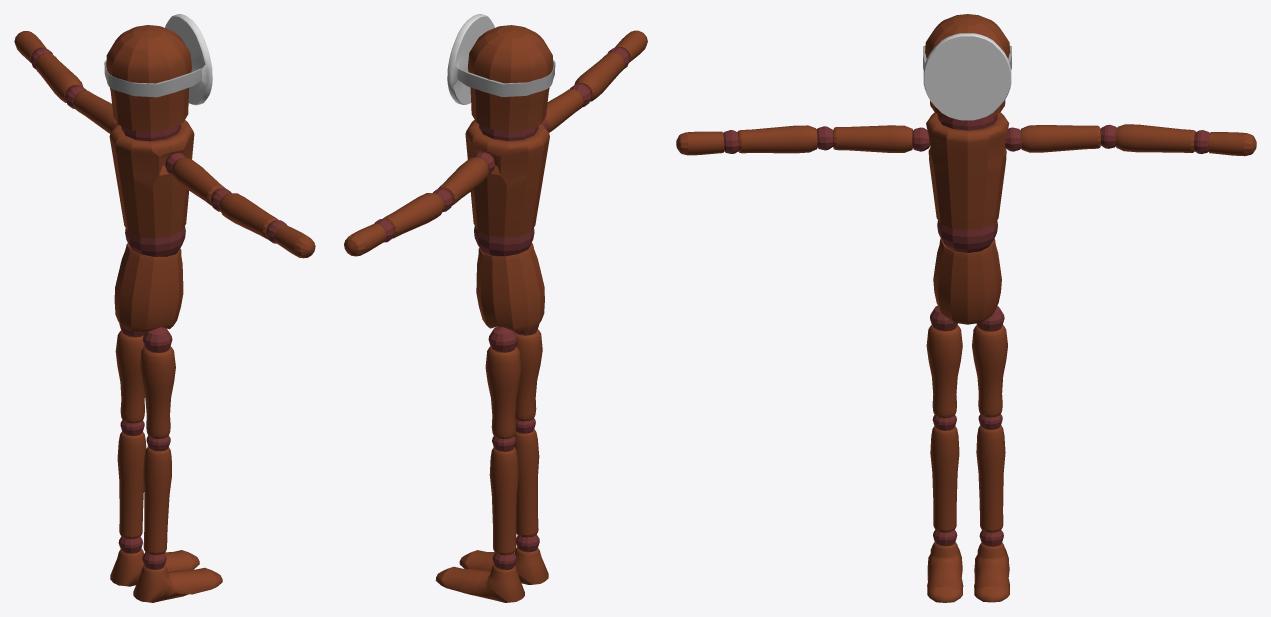
Rendered from AE_Mann_With_Mask_Animatable001.fbx.
3 views of the same model, side by side, from view 1: azimuth 30°, elevation 25°; view 2: azimuth 150°, elevation 25°; view 3: azimuth 270°, elevation 25° (orthographic).
Visible parts, largest first — view 1: Mann_Fullset; view 2: Mann_Fullset; view 3: Mann_Fullset.
Part boxes in pixels (x1,y1,x2,y2): Mann_Fullset: (14,14,315,602); Mann_Fullset: (344,14,647,602); Mann_Fullset: (676,14,1256,602).
Bounding box in the file's own units: 94.38 × 507 × 477.
